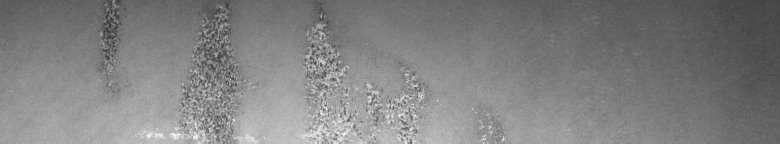hc: (304, 4, 501, 136)
